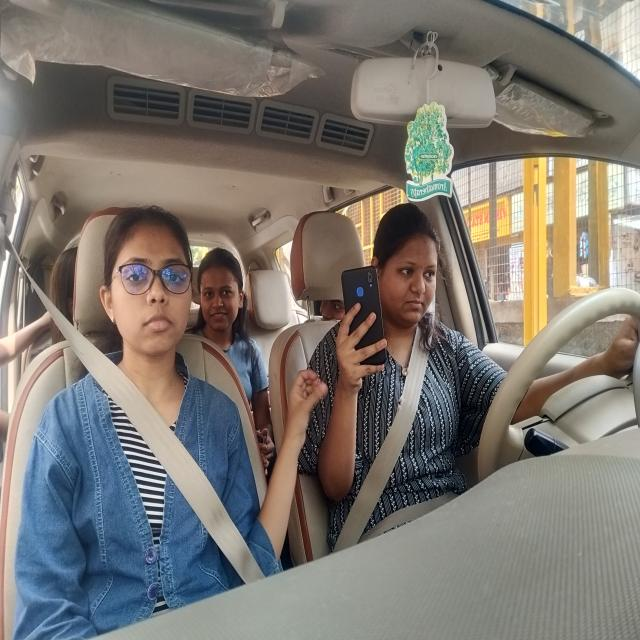mobile: (339, 255, 395, 379)
person: (94, 204, 202, 360), (377, 207, 444, 330), (195, 247, 248, 334)
